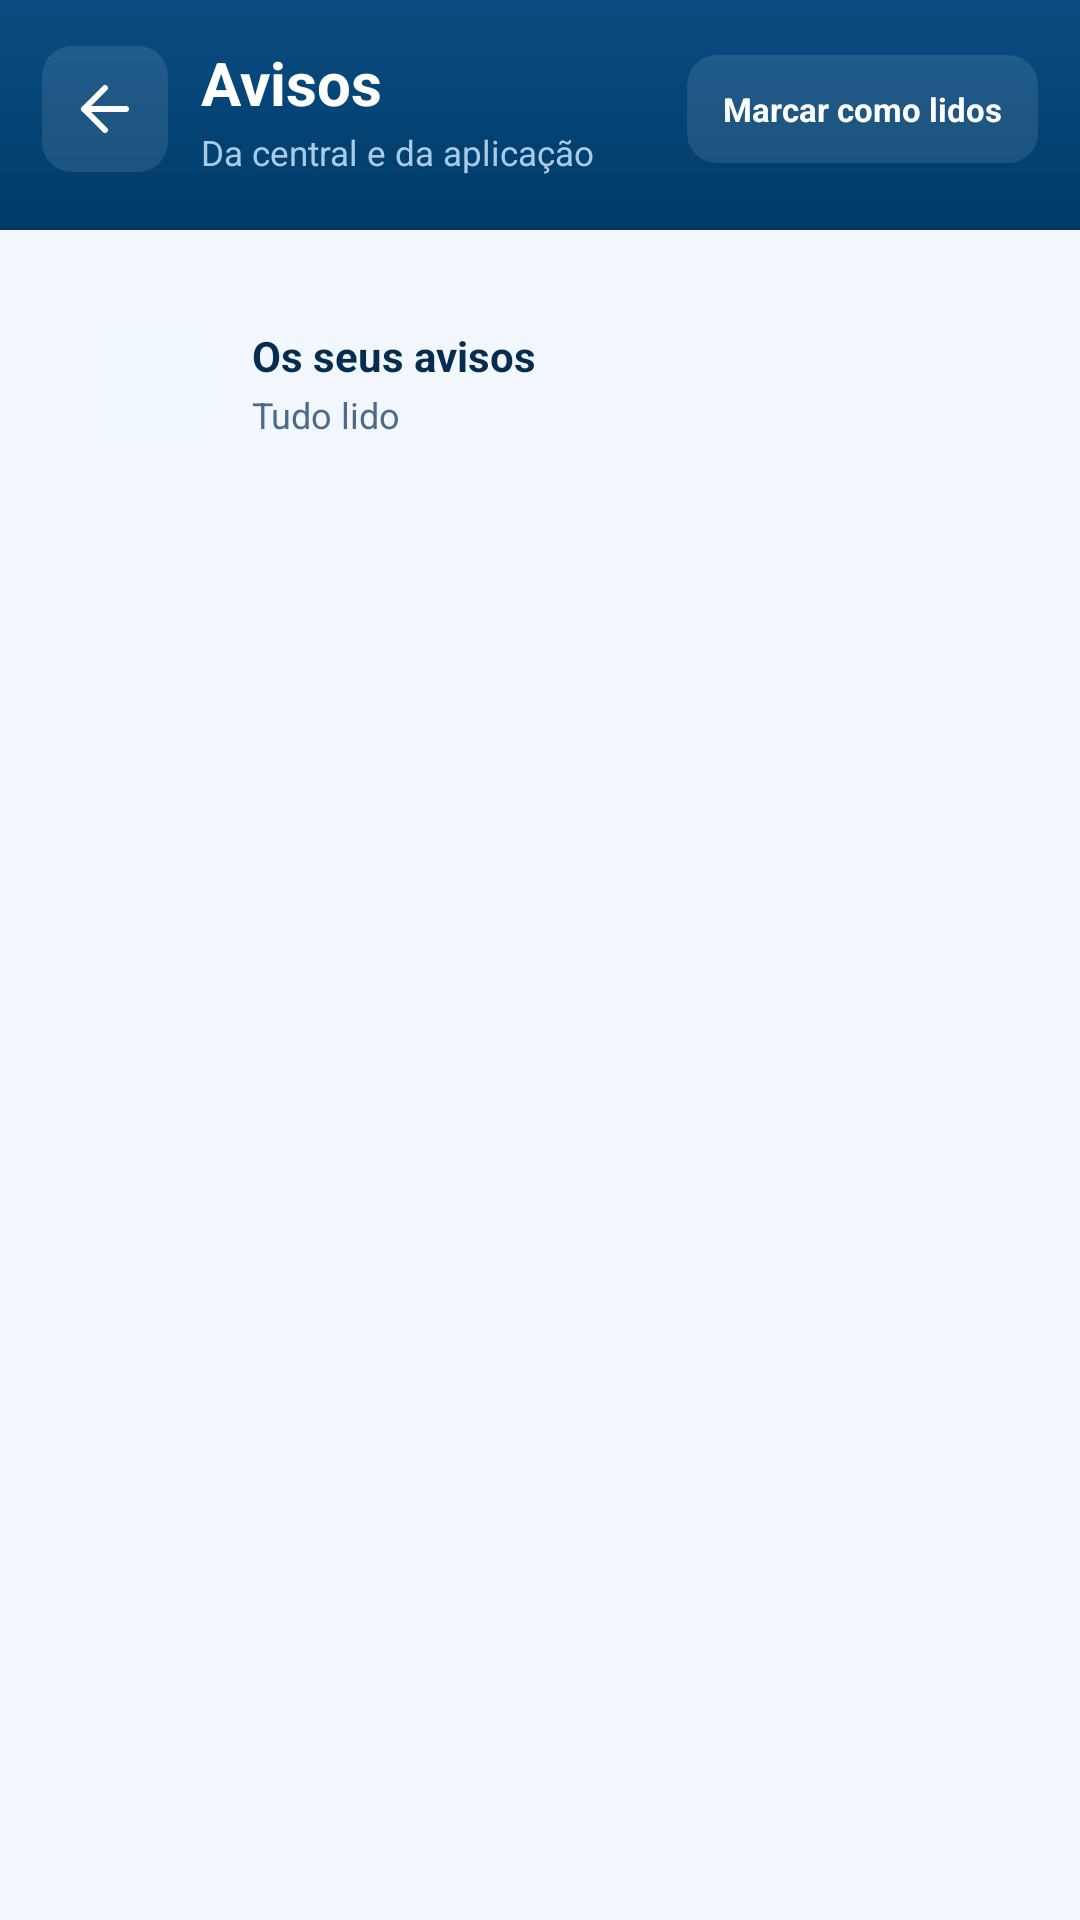

Icon bounding boxes for this 1080w x 1920h phone screenshot, format bbox=(x1, y1, x2, y2):
Voltar: bbox=(42, 46, 168, 172)
